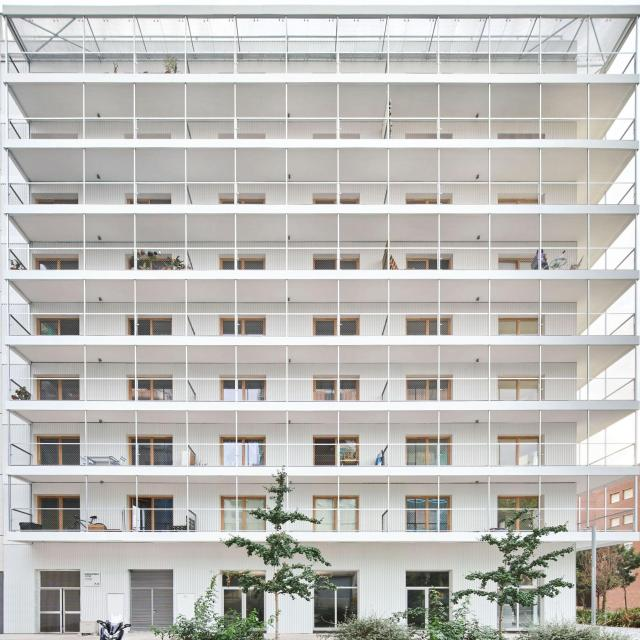door: (132, 566, 176, 626), (36, 567, 78, 628), (222, 568, 263, 628), (405, 568, 446, 625), (313, 572, 355, 626), (501, 570, 536, 622)
window: (406, 497, 451, 531), (406, 434, 450, 468), (225, 498, 271, 530), (223, 435, 269, 467), (317, 499, 362, 530), (316, 436, 361, 467), (41, 496, 83, 528), (131, 434, 173, 466), (132, 497, 173, 529), (39, 433, 81, 464), (501, 498, 539, 528), (501, 435, 538, 465), (129, 378, 174, 402), (128, 313, 173, 337), (318, 377, 362, 400), (39, 377, 85, 399), (37, 312, 83, 334), (409, 313, 453, 335), (318, 313, 362, 335), (224, 379, 270, 400), (410, 378, 454, 399), (223, 315, 268, 335), (504, 380, 541, 401), (503, 316, 540, 336), (33, 256, 82, 270), (126, 256, 170, 271), (317, 257, 359, 270), (409, 257, 450, 269), (220, 259, 266, 269), (501, 259, 538, 270)
